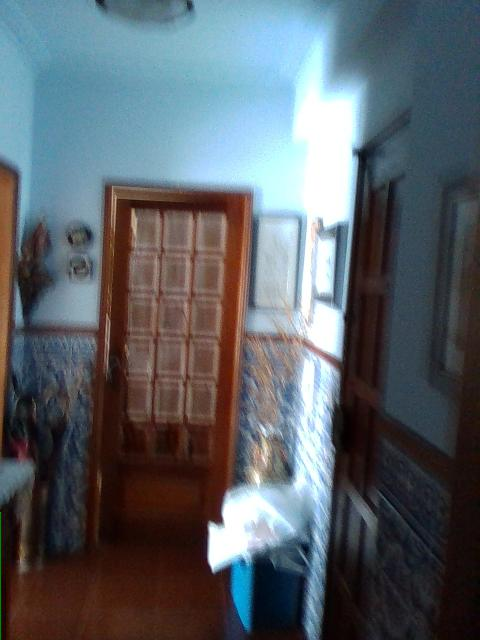door: (91, 182, 255, 542), (319, 107, 413, 640)
